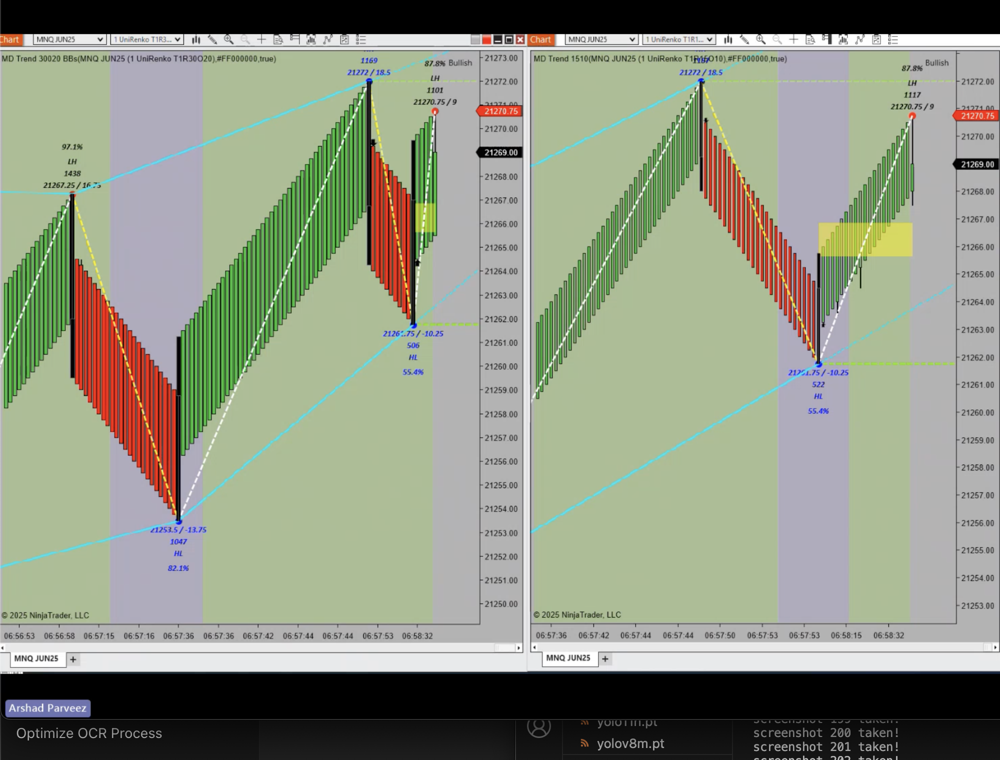HL: (166, 545, 193, 562), (403, 350, 427, 367), (808, 390, 829, 405)
LH: (423, 71, 451, 87), (62, 153, 87, 170), (900, 76, 926, 90)
